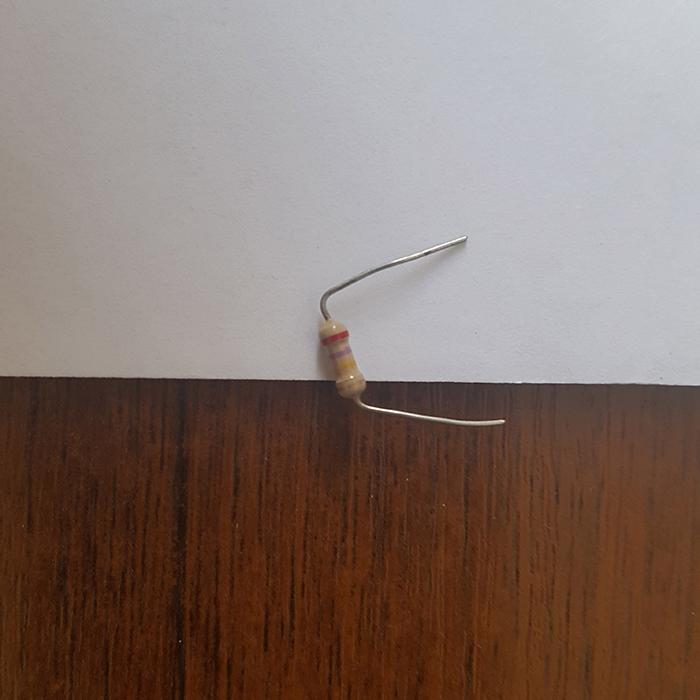resistor: (320, 316, 364, 396)
